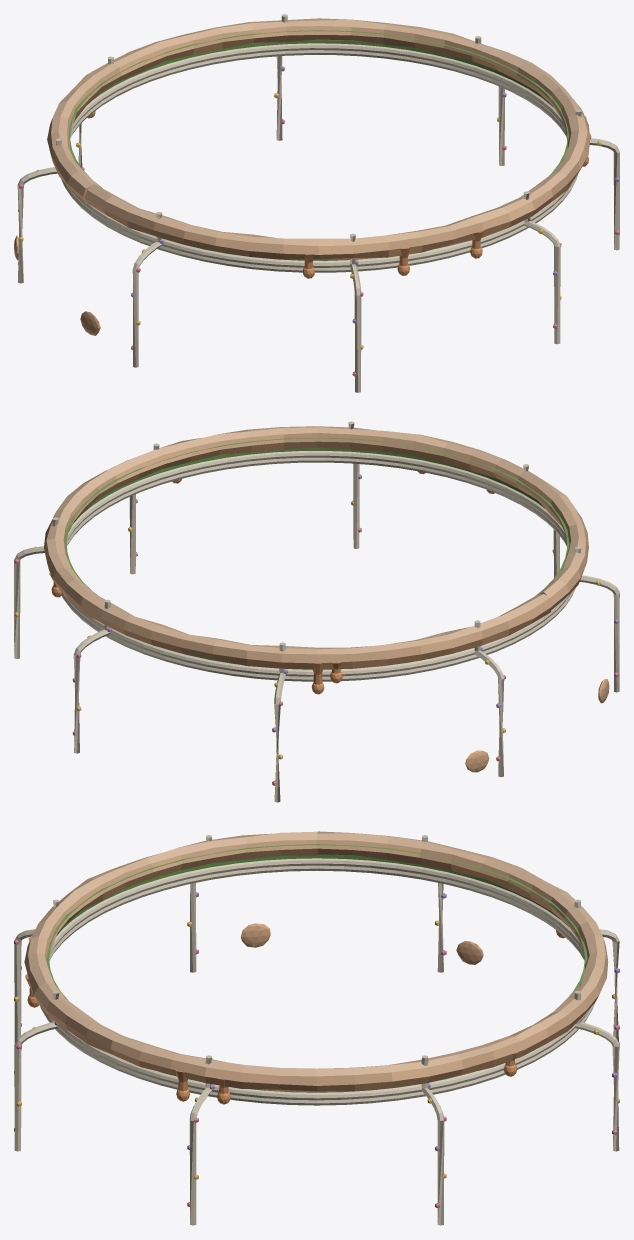
The model's file is goo_jar_trim_1_mid@garden.fbx.
3 renders of one model, top to bottom at view 1: azimuth 30°, elevation 25°; view 2: azimuth 150°, elevation 25°; view 3: azimuth 270°, elevation 25°, orthographic. The views are drawn at different scales.
Visible parts, largest first — view 1: goo_jar_trim_1_mid; view 2: goo_jar_trim_1_mid; view 3: goo_jar_trim_1_mid.
Boxes of the visible parts, left/top/right/bottom form: goo_jar_trim_1_mid: left=14, top=14, right=619, bottom=392; goo_jar_trim_1_mid: left=14, top=421, right=619, bottom=802; goo_jar_trim_1_mid: left=14, top=831, right=619, bottom=1225.
Bounding box in the file's own units: 60.36 × 16.05 × 58.37.
